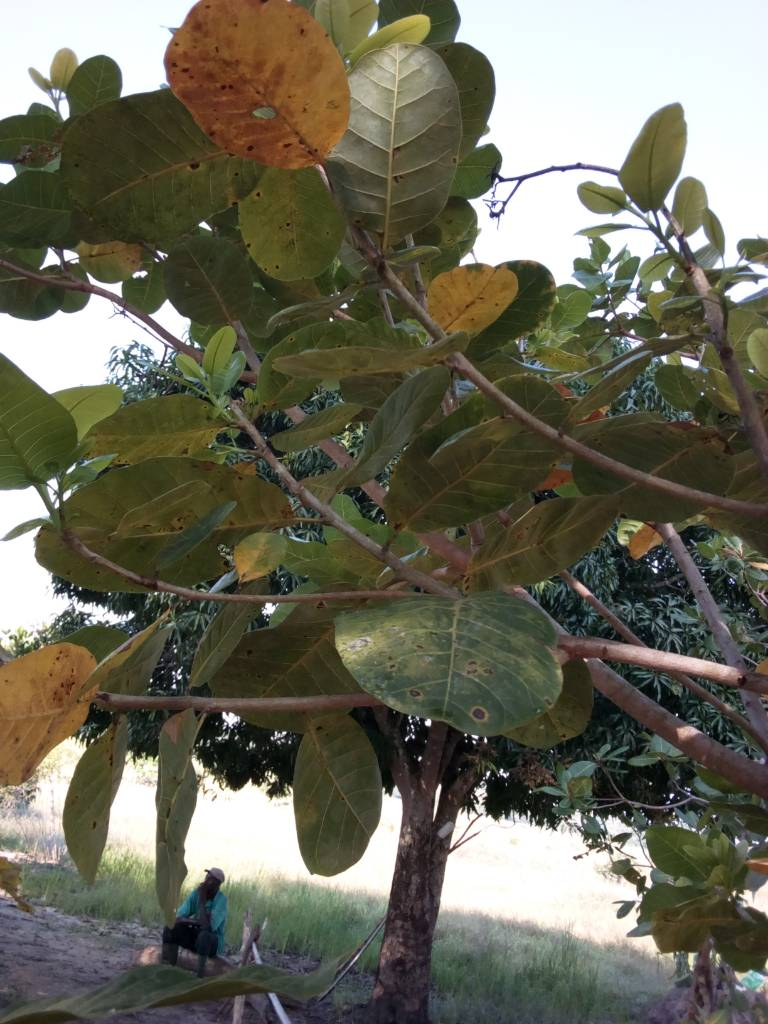Pestalotiose: (333, 600, 561, 732), (463, 496, 633, 588), (102, 460, 268, 541), (241, 167, 344, 278), (421, 260, 522, 328)
